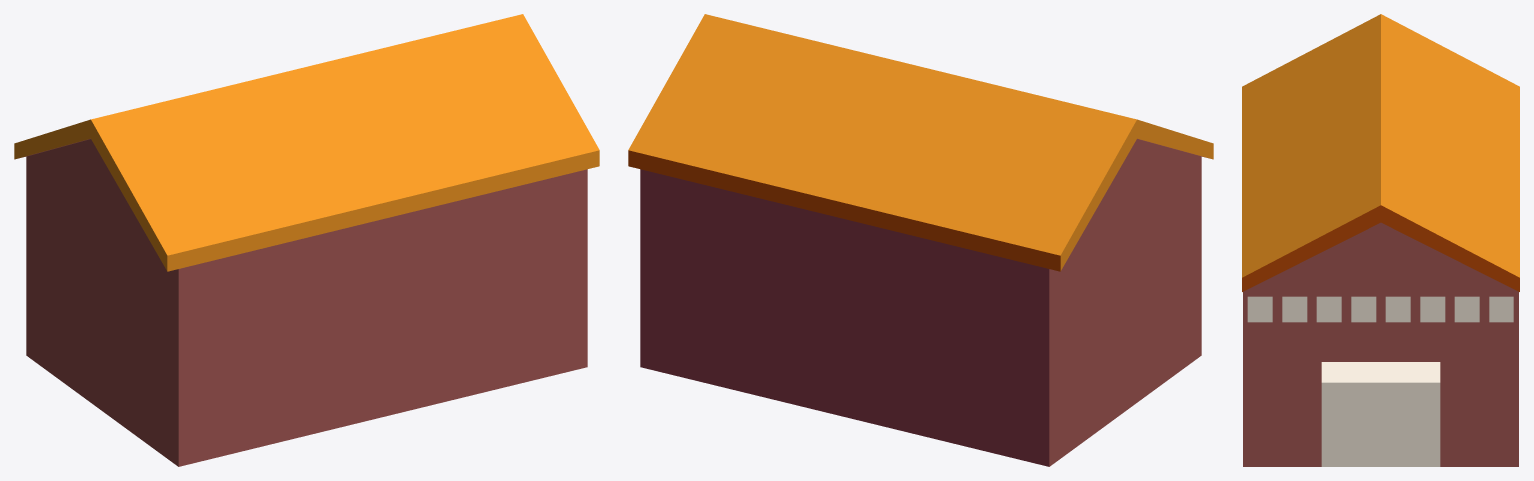
The model's file is StorageBig.fbx.
3 renders of one model, left to right at view 1: azimuth 30°, elevation 25°; view 2: azimuth 150°, elevation 25°; view 3: azimuth 270°, elevation 25°, orthographic. The views are drawn at different scales.
Parts seen in each view (by area): view 1: StorageBig; view 2: StorageBig; view 3: StorageBig.
Part boxes in pixels (left/top/right/bottom): StorageBig: left=14, top=14, right=599, bottom=466; StorageBig: left=628, top=14, right=1213, bottom=466; StorageBig: left=1242, top=14, right=1519, bottom=466.
Bounding box in the file's own units: 143 × 90.83 × 85.65.
